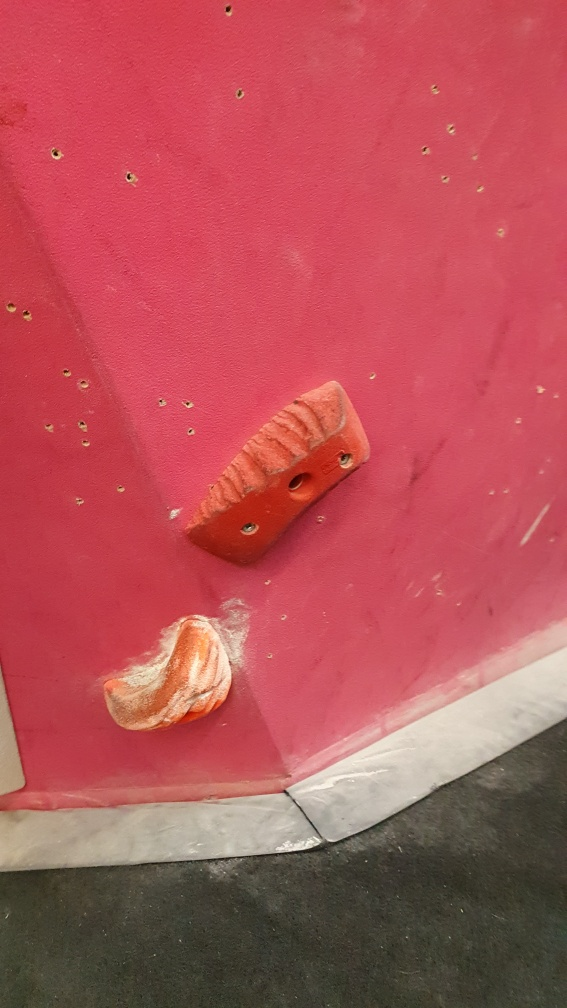Jug: (102, 614, 234, 732)
